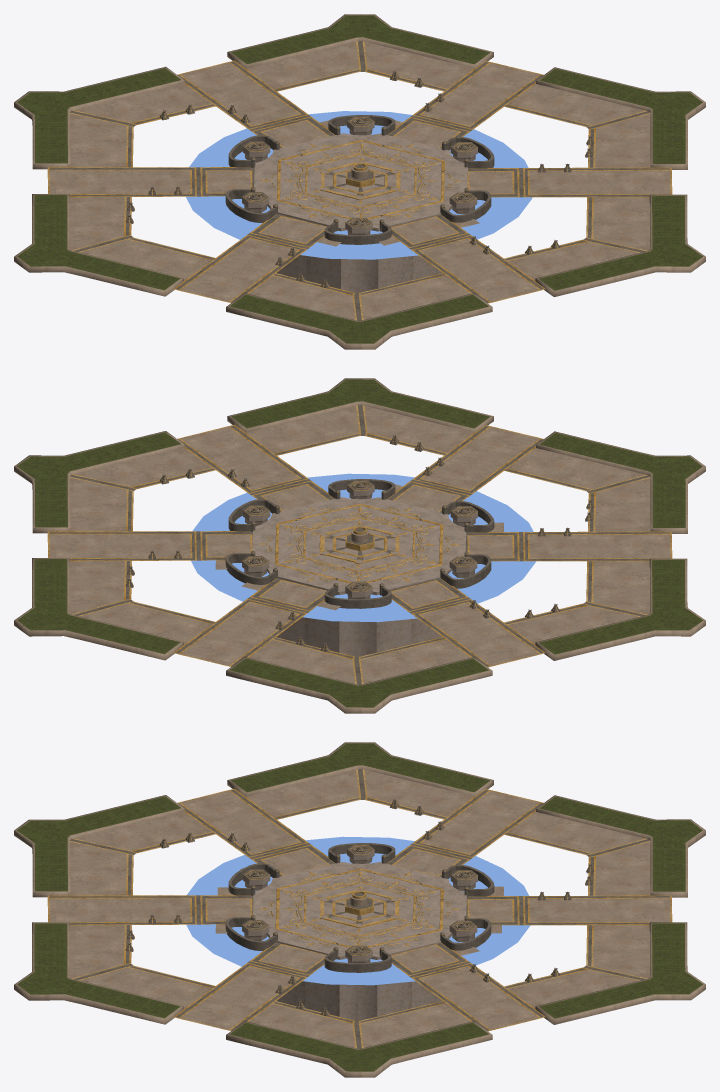
Rendered from map.glb.
3 views of the same model, one above another, from view 1: azimuth 30°, elevation 25°; view 2: azimuth 150°, elevation 25°; view 3: azimuth 270°, elevation 25° (orthographic).
Parts seen in each view (by area): view 1: Island; view 2: Island; view 3: Island.
Boxes of the visible parts, <box> form: Island: <box>14,14,705,349</box>; Island: <box>14,378,705,713</box>; Island: <box>14,742,705,1077</box>.
Bounding box in the file's own units: 344 × 45.75 × 304.
2 materials, 1 textured.
